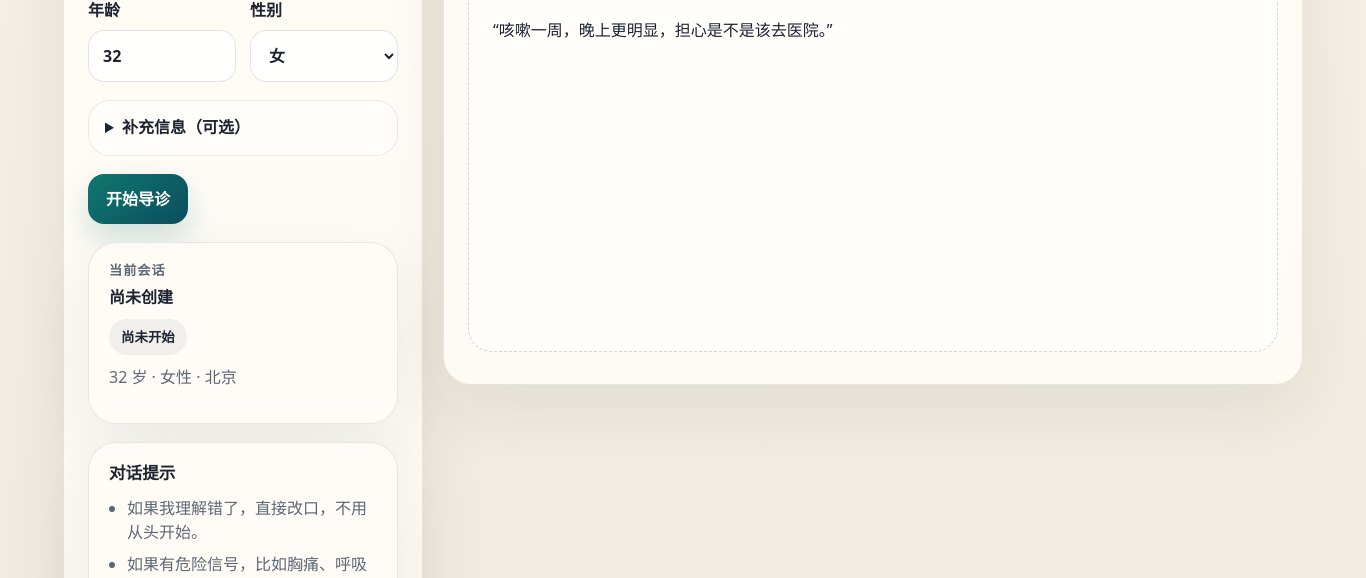
Test case: Triage view › shows orchestration debug details after loading a follow-up session
The width and height of the screenshot is (1366, 578).
(page scrolled)
Click the button "开始导诊". click: (138, 199)
box: [88, 174, 188, 224]
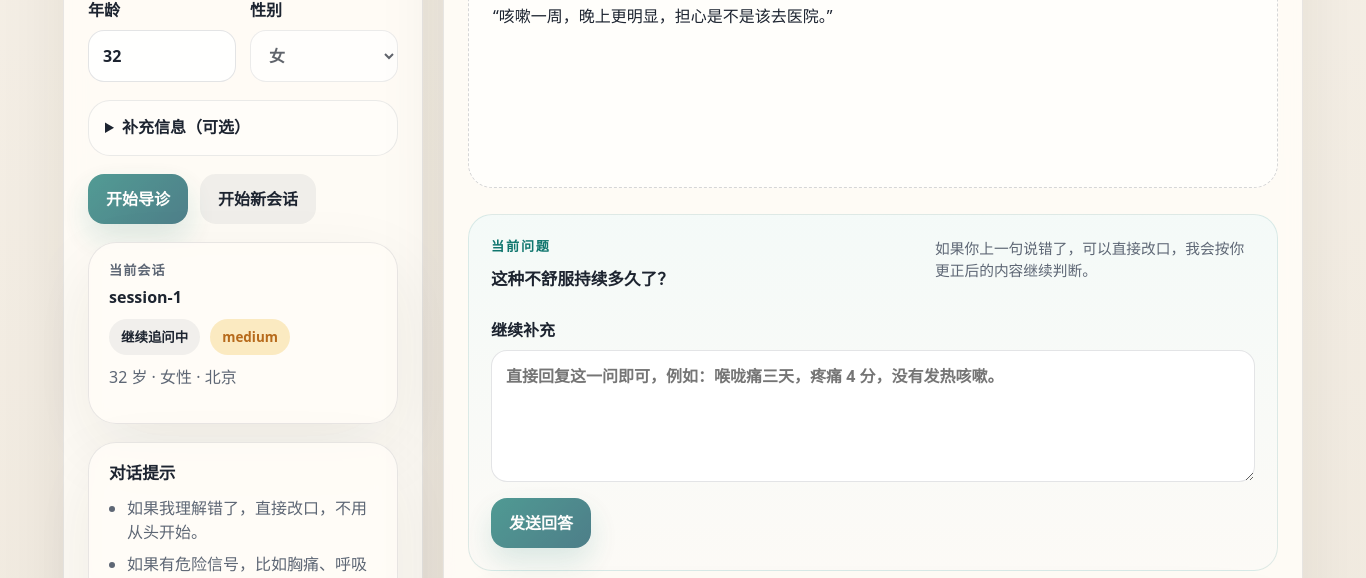
Expected: the text "如果你上一句说错了，可以直接改口" is shown, [935, 238, 1244, 280]
